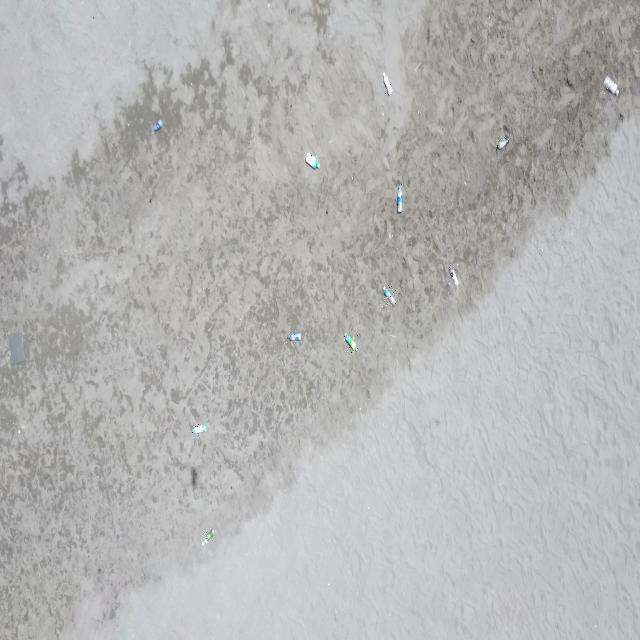Garbage: (9, 332, 24, 366), (604, 76, 616, 96), (383, 71, 392, 95), (344, 333, 355, 351), (495, 135, 508, 150), (306, 152, 318, 168), (383, 287, 395, 303), (201, 528, 212, 544), (396, 183, 402, 212), (448, 266, 455, 286), (193, 424, 206, 433), (152, 119, 161, 131), (287, 332, 300, 340), (191, 467, 196, 487)
